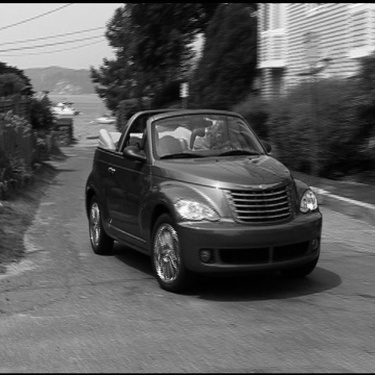car: (73, 98, 327, 298)
